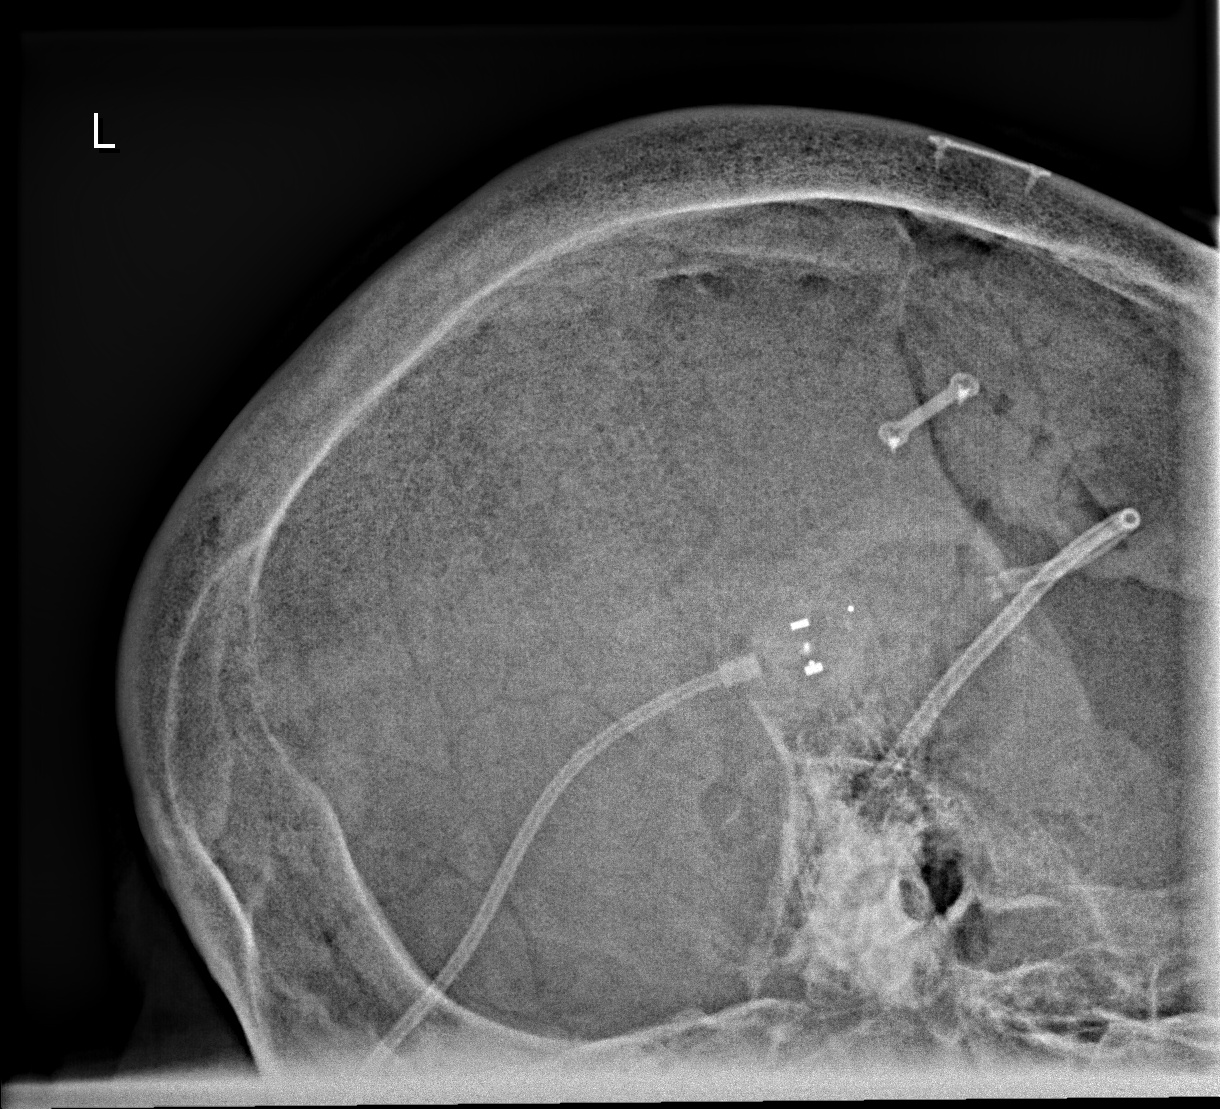Codman Certas: (756, 582, 867, 692)
